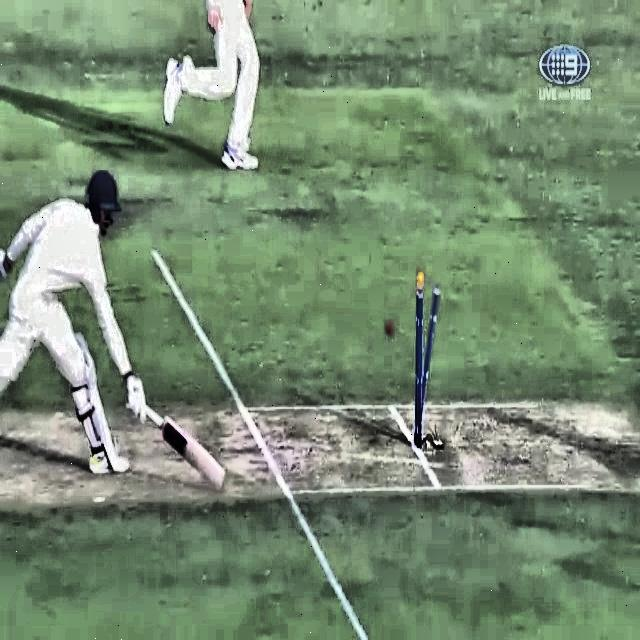Ball: (377, 315, 401, 348)
Bat: (135, 399, 233, 492)
Dis_Wicket: (405, 272, 447, 465)
Pitch_Line: (150, 246, 367, 640)
